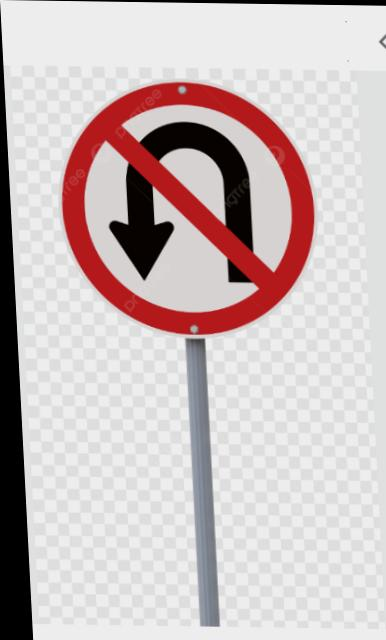not_u_turn_left: (42, 72, 323, 346)
